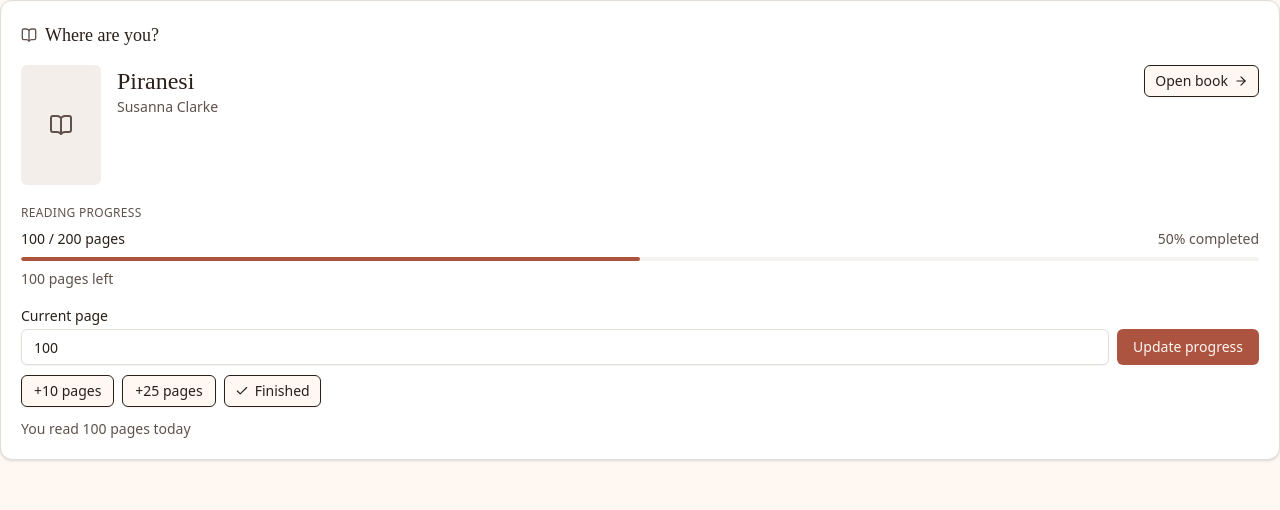
Scenario: PageProgressQuickUpdate › rejects currentPage > totalPages with an inline error and does not save
Replace the text in the number field with test id "page-progress-page-input" with "250" at (565, 347), box [21,329,1109,365]
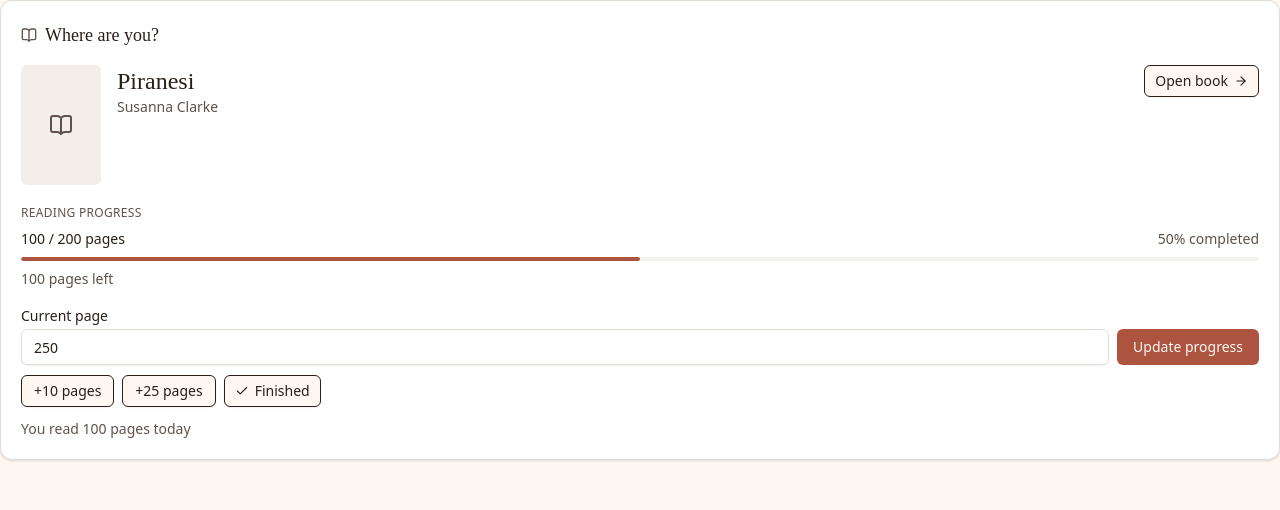
Click the button with test id "page-progress-save" at (1188, 347), box [1117,329,1259,365]
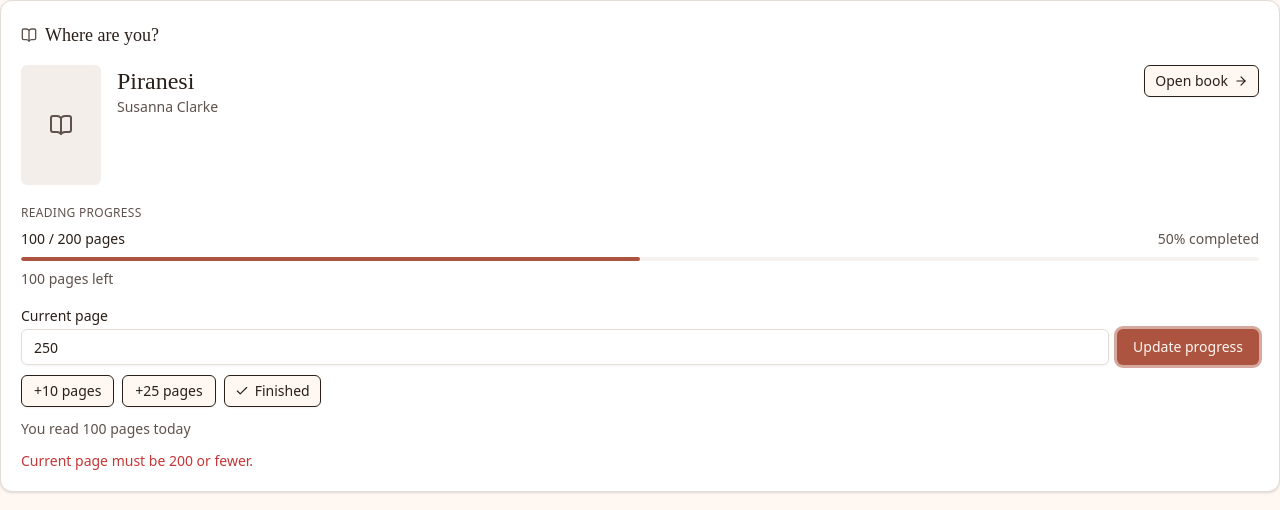
Expected: the message "Current page must be 200 or fewer." is shown, [21,451,253,470]
